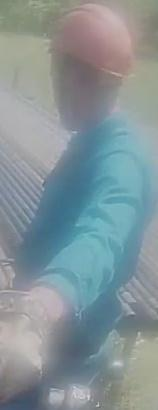gloves: (0, 291, 60, 410)
helmet: (41, 0, 140, 81)
vest: (18, 126, 156, 344)
